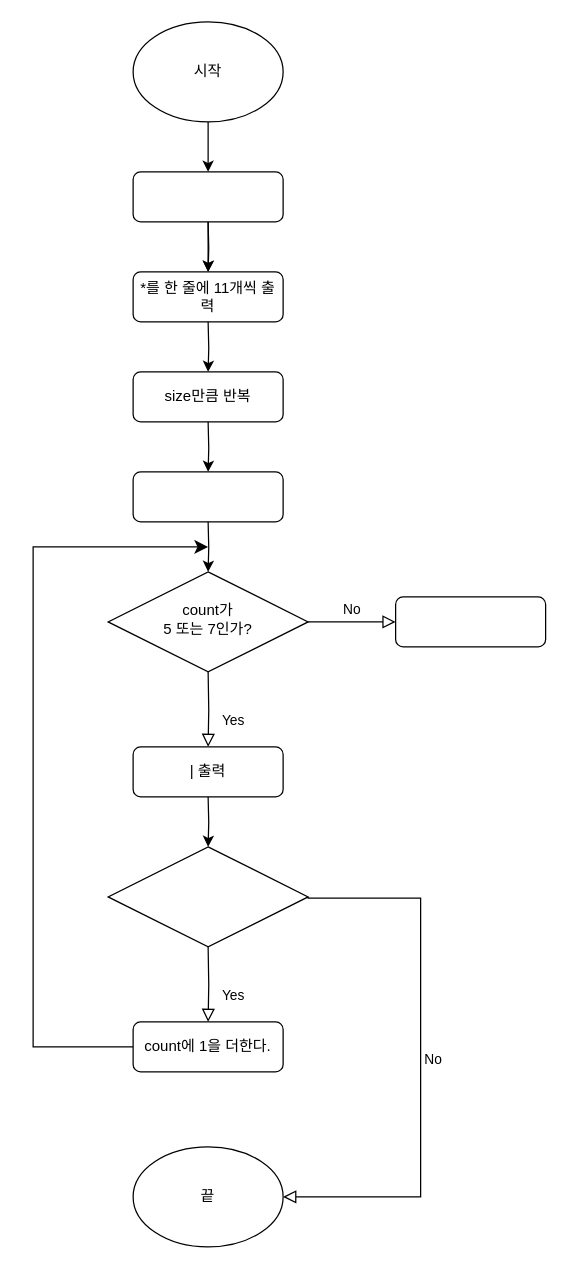
Some shapes in this 568 by 1269 pixel diagram are drawn without their labels. The shapes that lost their labels are listed below. From the top down, each one's box as (x1, y1, x2, y2) in pixels, then its label:
(132, 171, 283, 222): size: 8
(132, 471, 283, 522): size: 4
(394, 596, 546, 647): 공백 출력
(107, 846, 308, 947): count가 11보다 작은가?
